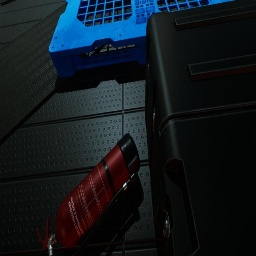FireExtinguisher ]: (37, 133, 140, 256)
